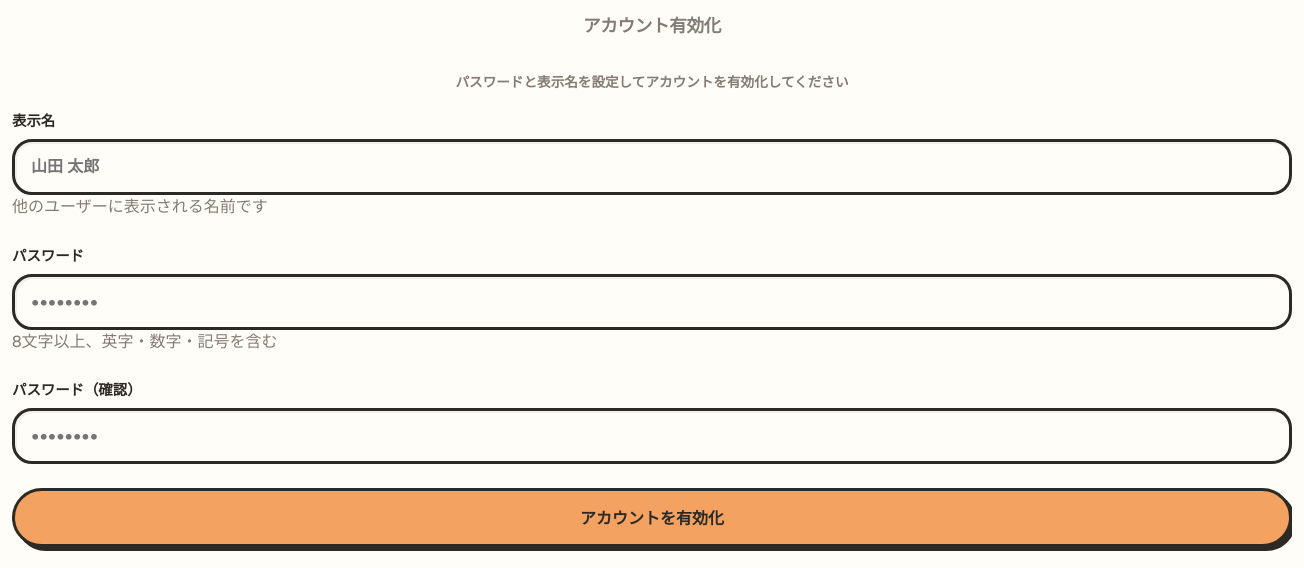
it: ActivatePage › API › submitting disables button
Type "Test" into the field with id "displayName" at (652, 167), box [12,139,1292,195]
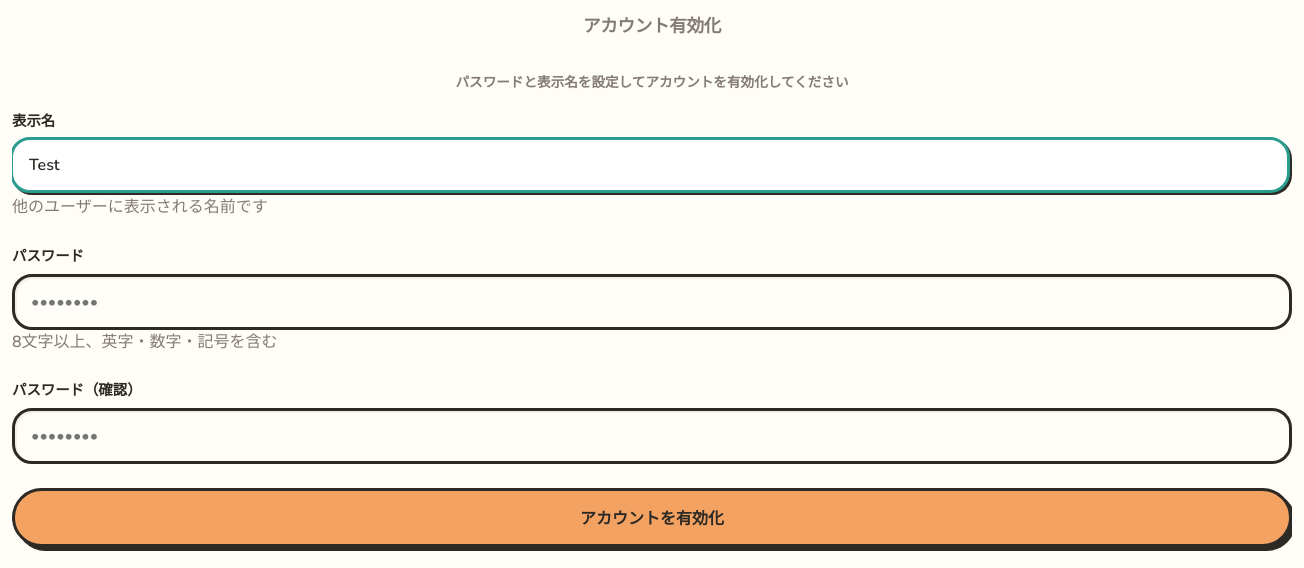
Type "Abcdef1!" into the password field labelled "パスワード" at (652, 302), box [12,274,1292,330]
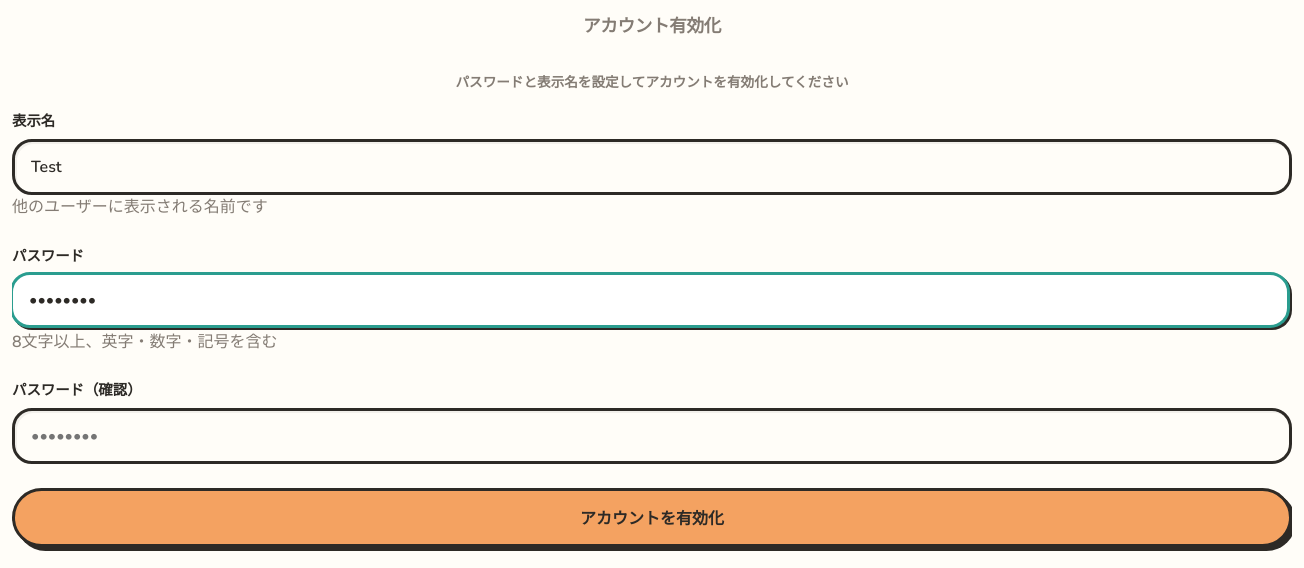
Type "Abcdef1!" into the password field labelled "パスワード（確認）" at (652, 436), box [12,408,1292,464]
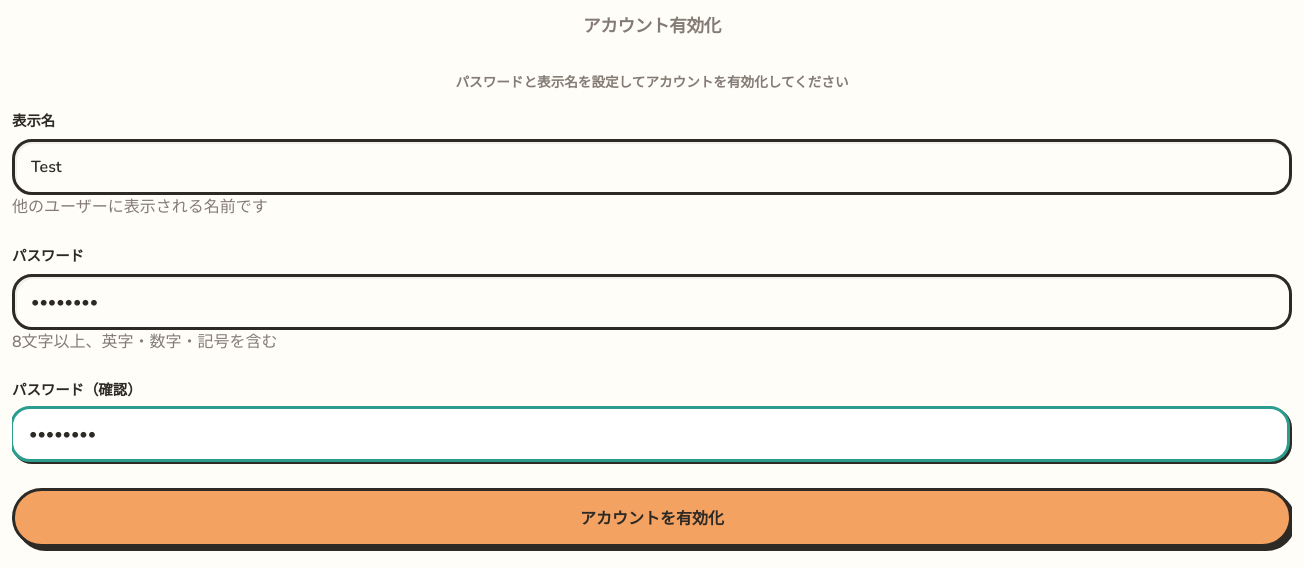
Click the button "アカウントを有効化" at (652, 518), box [12,488,1292,547]
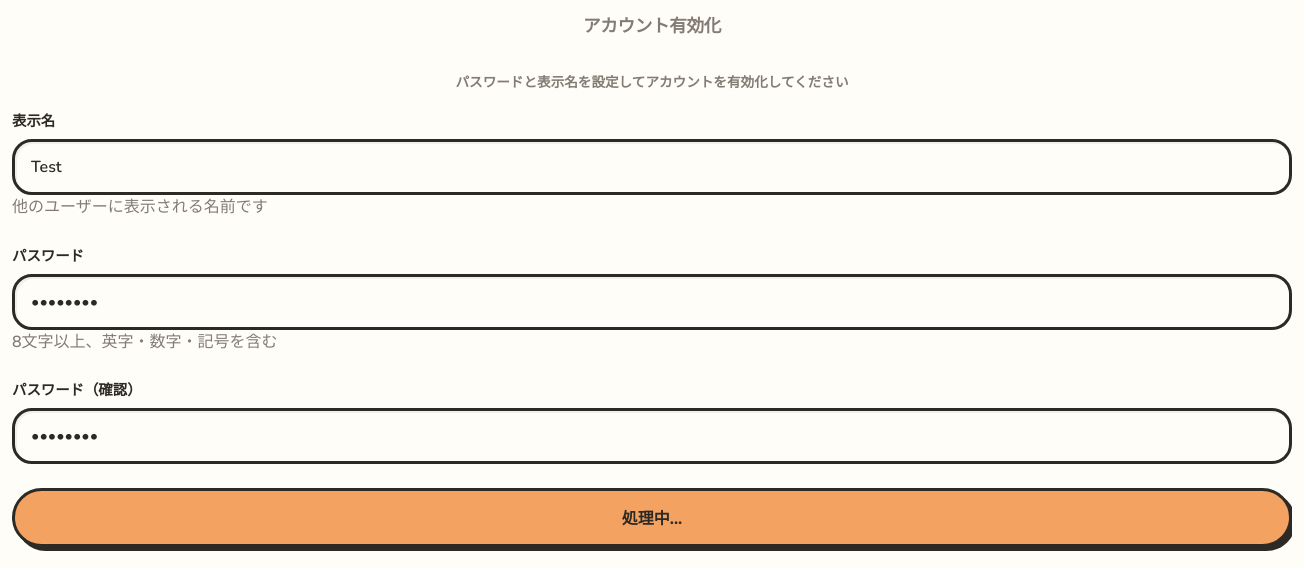
Now the button "処理中..." is disabled, box [12,488,1292,547]
